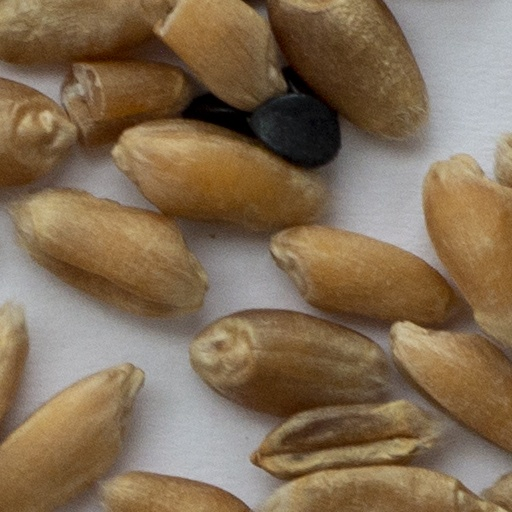Fallopia-Convolvulus-poly: (251, 95, 339, 164)
Wheat-grain-damaged-poly: (59, 62, 202, 143)
